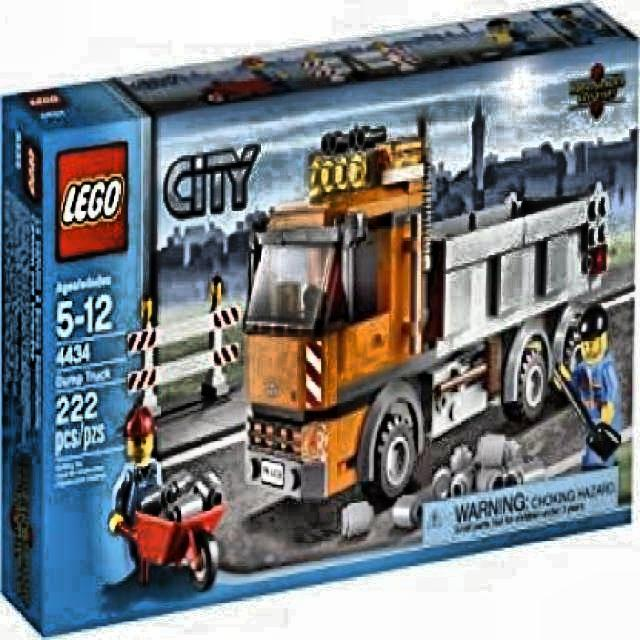dump_truck: (233, 123, 612, 512)
